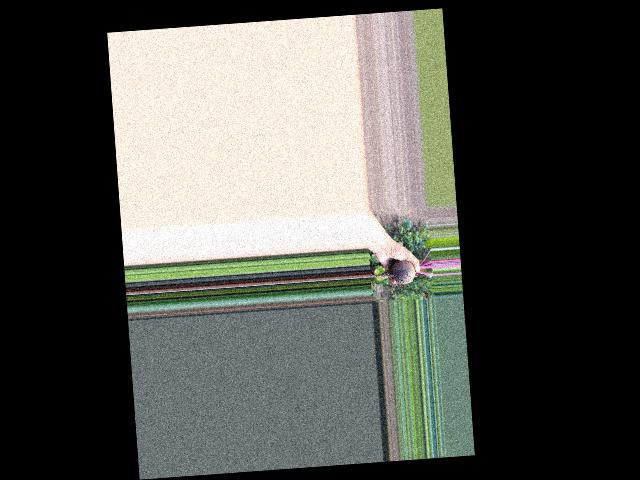beet: (367, 248, 434, 296)
